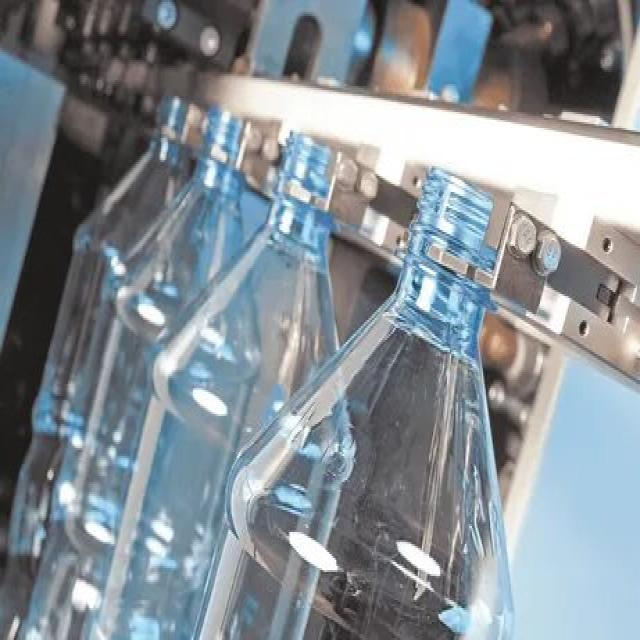blue: (184, 172, 515, 640)
